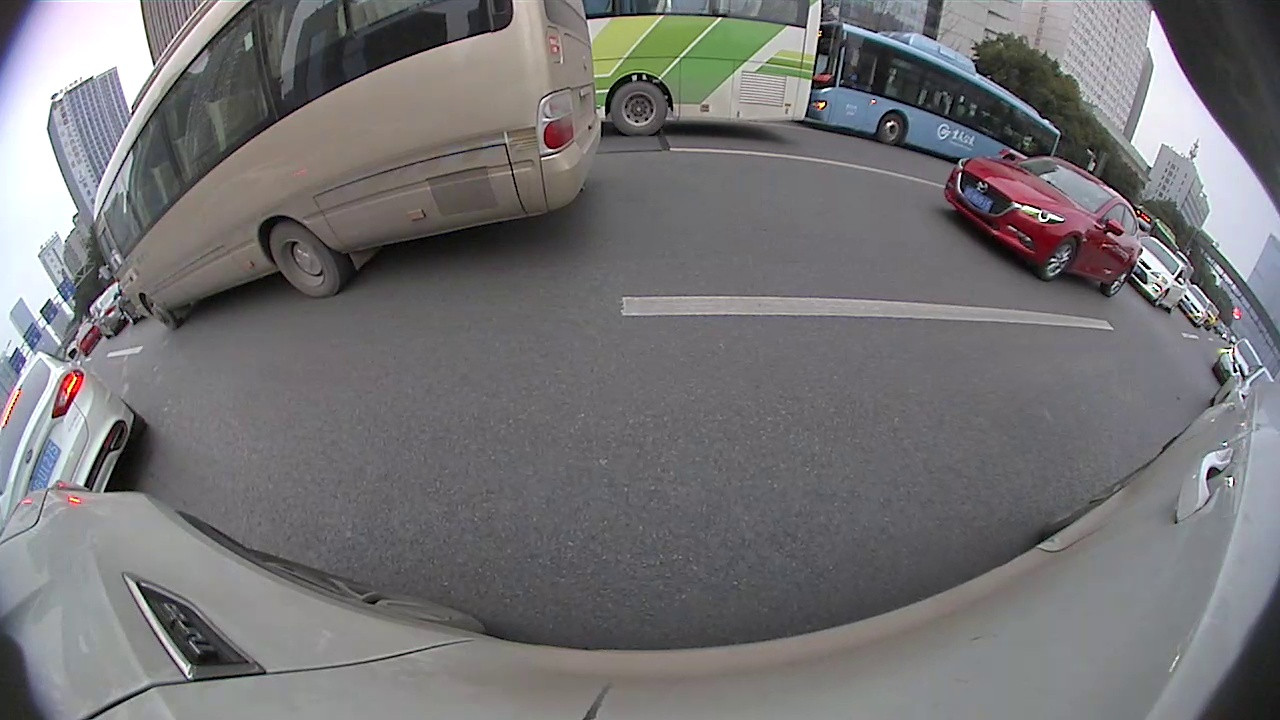bus: (84, 1, 603, 326), (810, 23, 1059, 159), (585, 1, 823, 132)
car: (947, 158, 1136, 298), (1, 353, 142, 525), (1122, 235, 1189, 313)
front: (1043, 236, 1082, 278), (141, 291, 180, 332), (875, 109, 906, 144)
rear: (267, 218, 341, 300), (609, 79, 670, 137), (1105, 269, 1131, 298)
